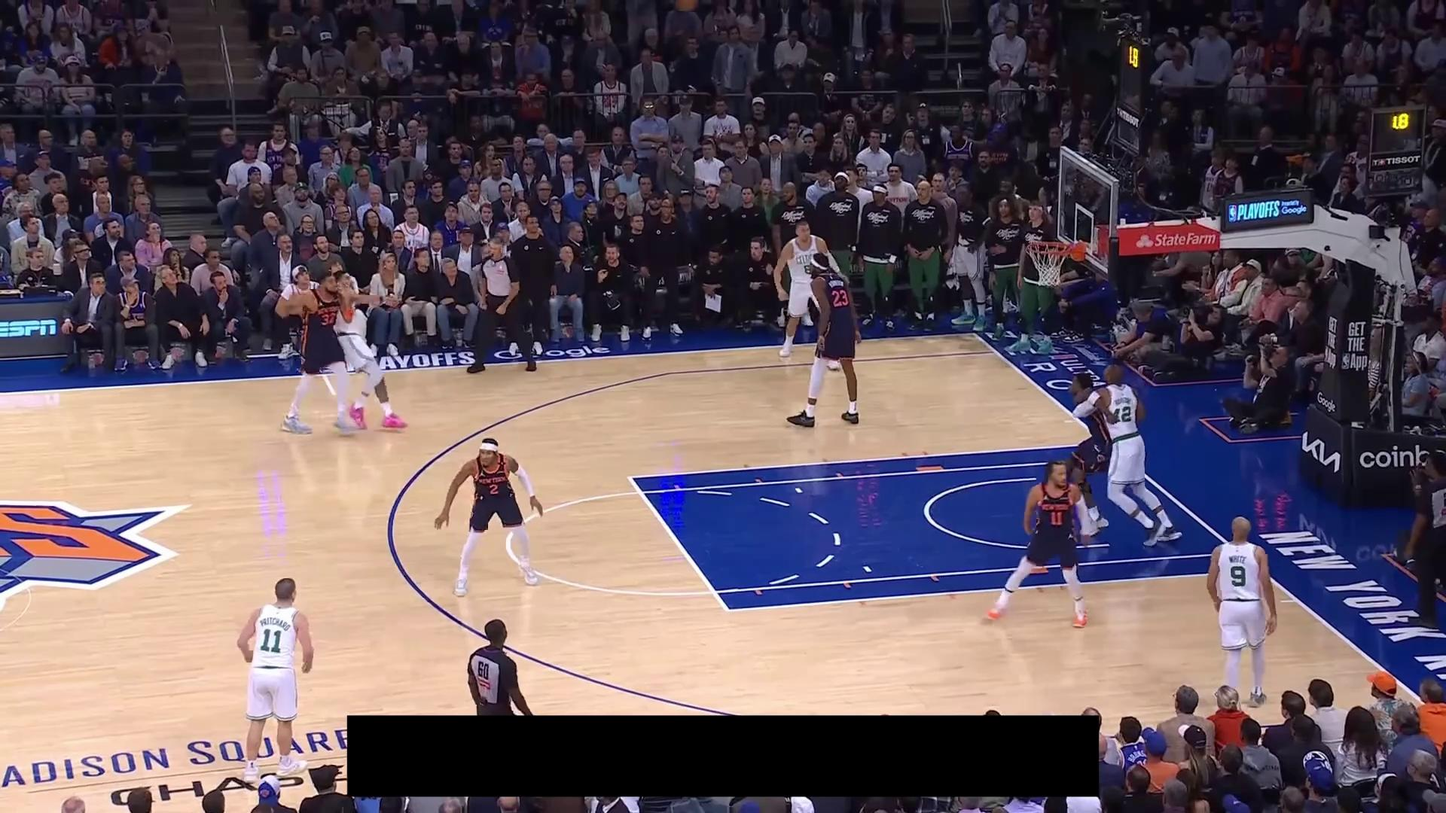ball: (673, 0, 700, 11)
number: (260, 628, 283, 653), (1230, 565, 1246, 587), (831, 289, 849, 307), (1115, 405, 1133, 423), (1049, 509, 1064, 527), (321, 311, 337, 326), (488, 483, 499, 495), (803, 263, 813, 276)
player: (987, 456, 1094, 629), (432, 435, 545, 598), (1088, 361, 1184, 548), (236, 577, 315, 787), (1206, 515, 1279, 712), (276, 266, 359, 439), (785, 250, 863, 429), (328, 265, 409, 434), (773, 218, 848, 361), (1063, 368, 1115, 542)
referee: (465, 236, 538, 374), (1404, 452, 1446, 630), (466, 618, 534, 715)
rim: (1025, 240, 1071, 254)
